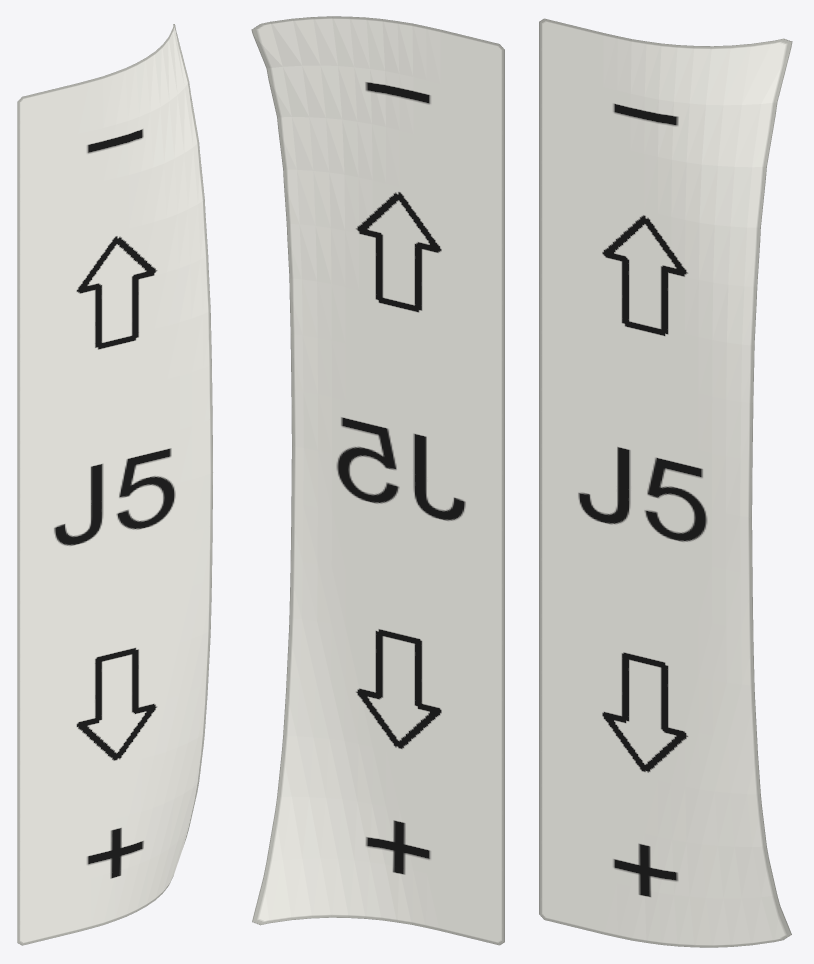
Rendered from J5_sticker.glb.
3 renders of one model, left to right at view 1: azimuth 30°, elevation 25°; view 2: azimuth 150°, elevation 25°; view 3: azimuth 330°, elevation 25°, orthographic. The views are drawn at different scales.
Bounding box in the file's own units: 0.006 × 0.024 × 0.00227.
1 material, 1 textured.
